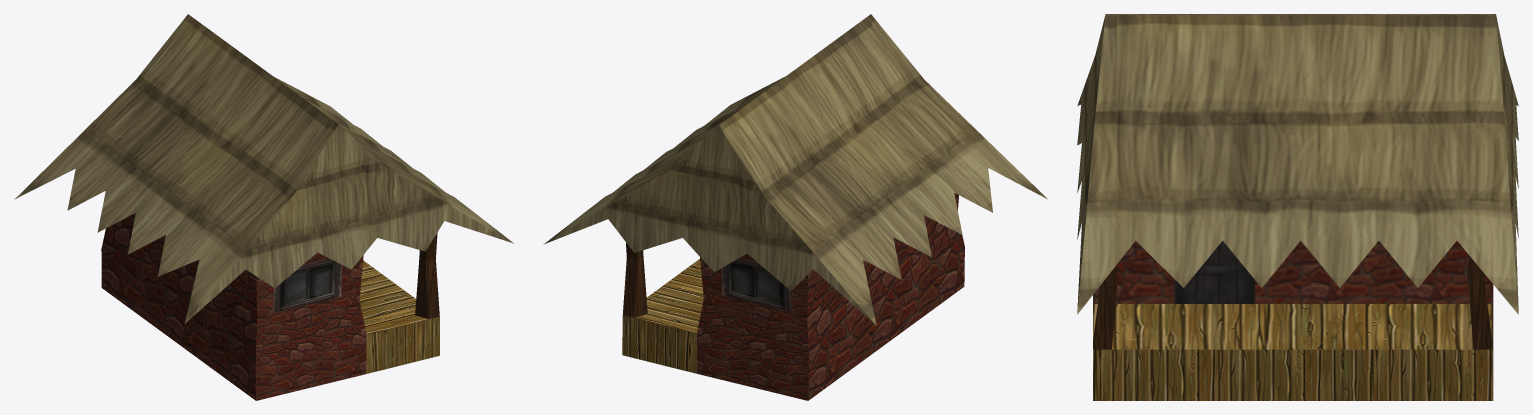
Rendered from home04.fbx.
3 renders of one model, left to right at view 1: azimuth 30°, elevation 25°; view 2: azimuth 150°, elevation 25°; view 3: azimuth 270°, elevation 25°, orthographic. The views are drawn at different scales.
Parts seen in each view (by area): view 1: home04:Box001; view 2: home04:Box001; view 3: home04:Box001.
Boxes of the visible parts, box(x1,y1,x2,y2) form: home04:Box001: box(14, 14, 513, 400); home04:Box001: box(543, 14, 1047, 400); home04:Box001: box(1077, 14, 1518, 400).
Size of the model in its own units: 67.54 by 49.27 by 60.4.
1 material, 1 textured.
